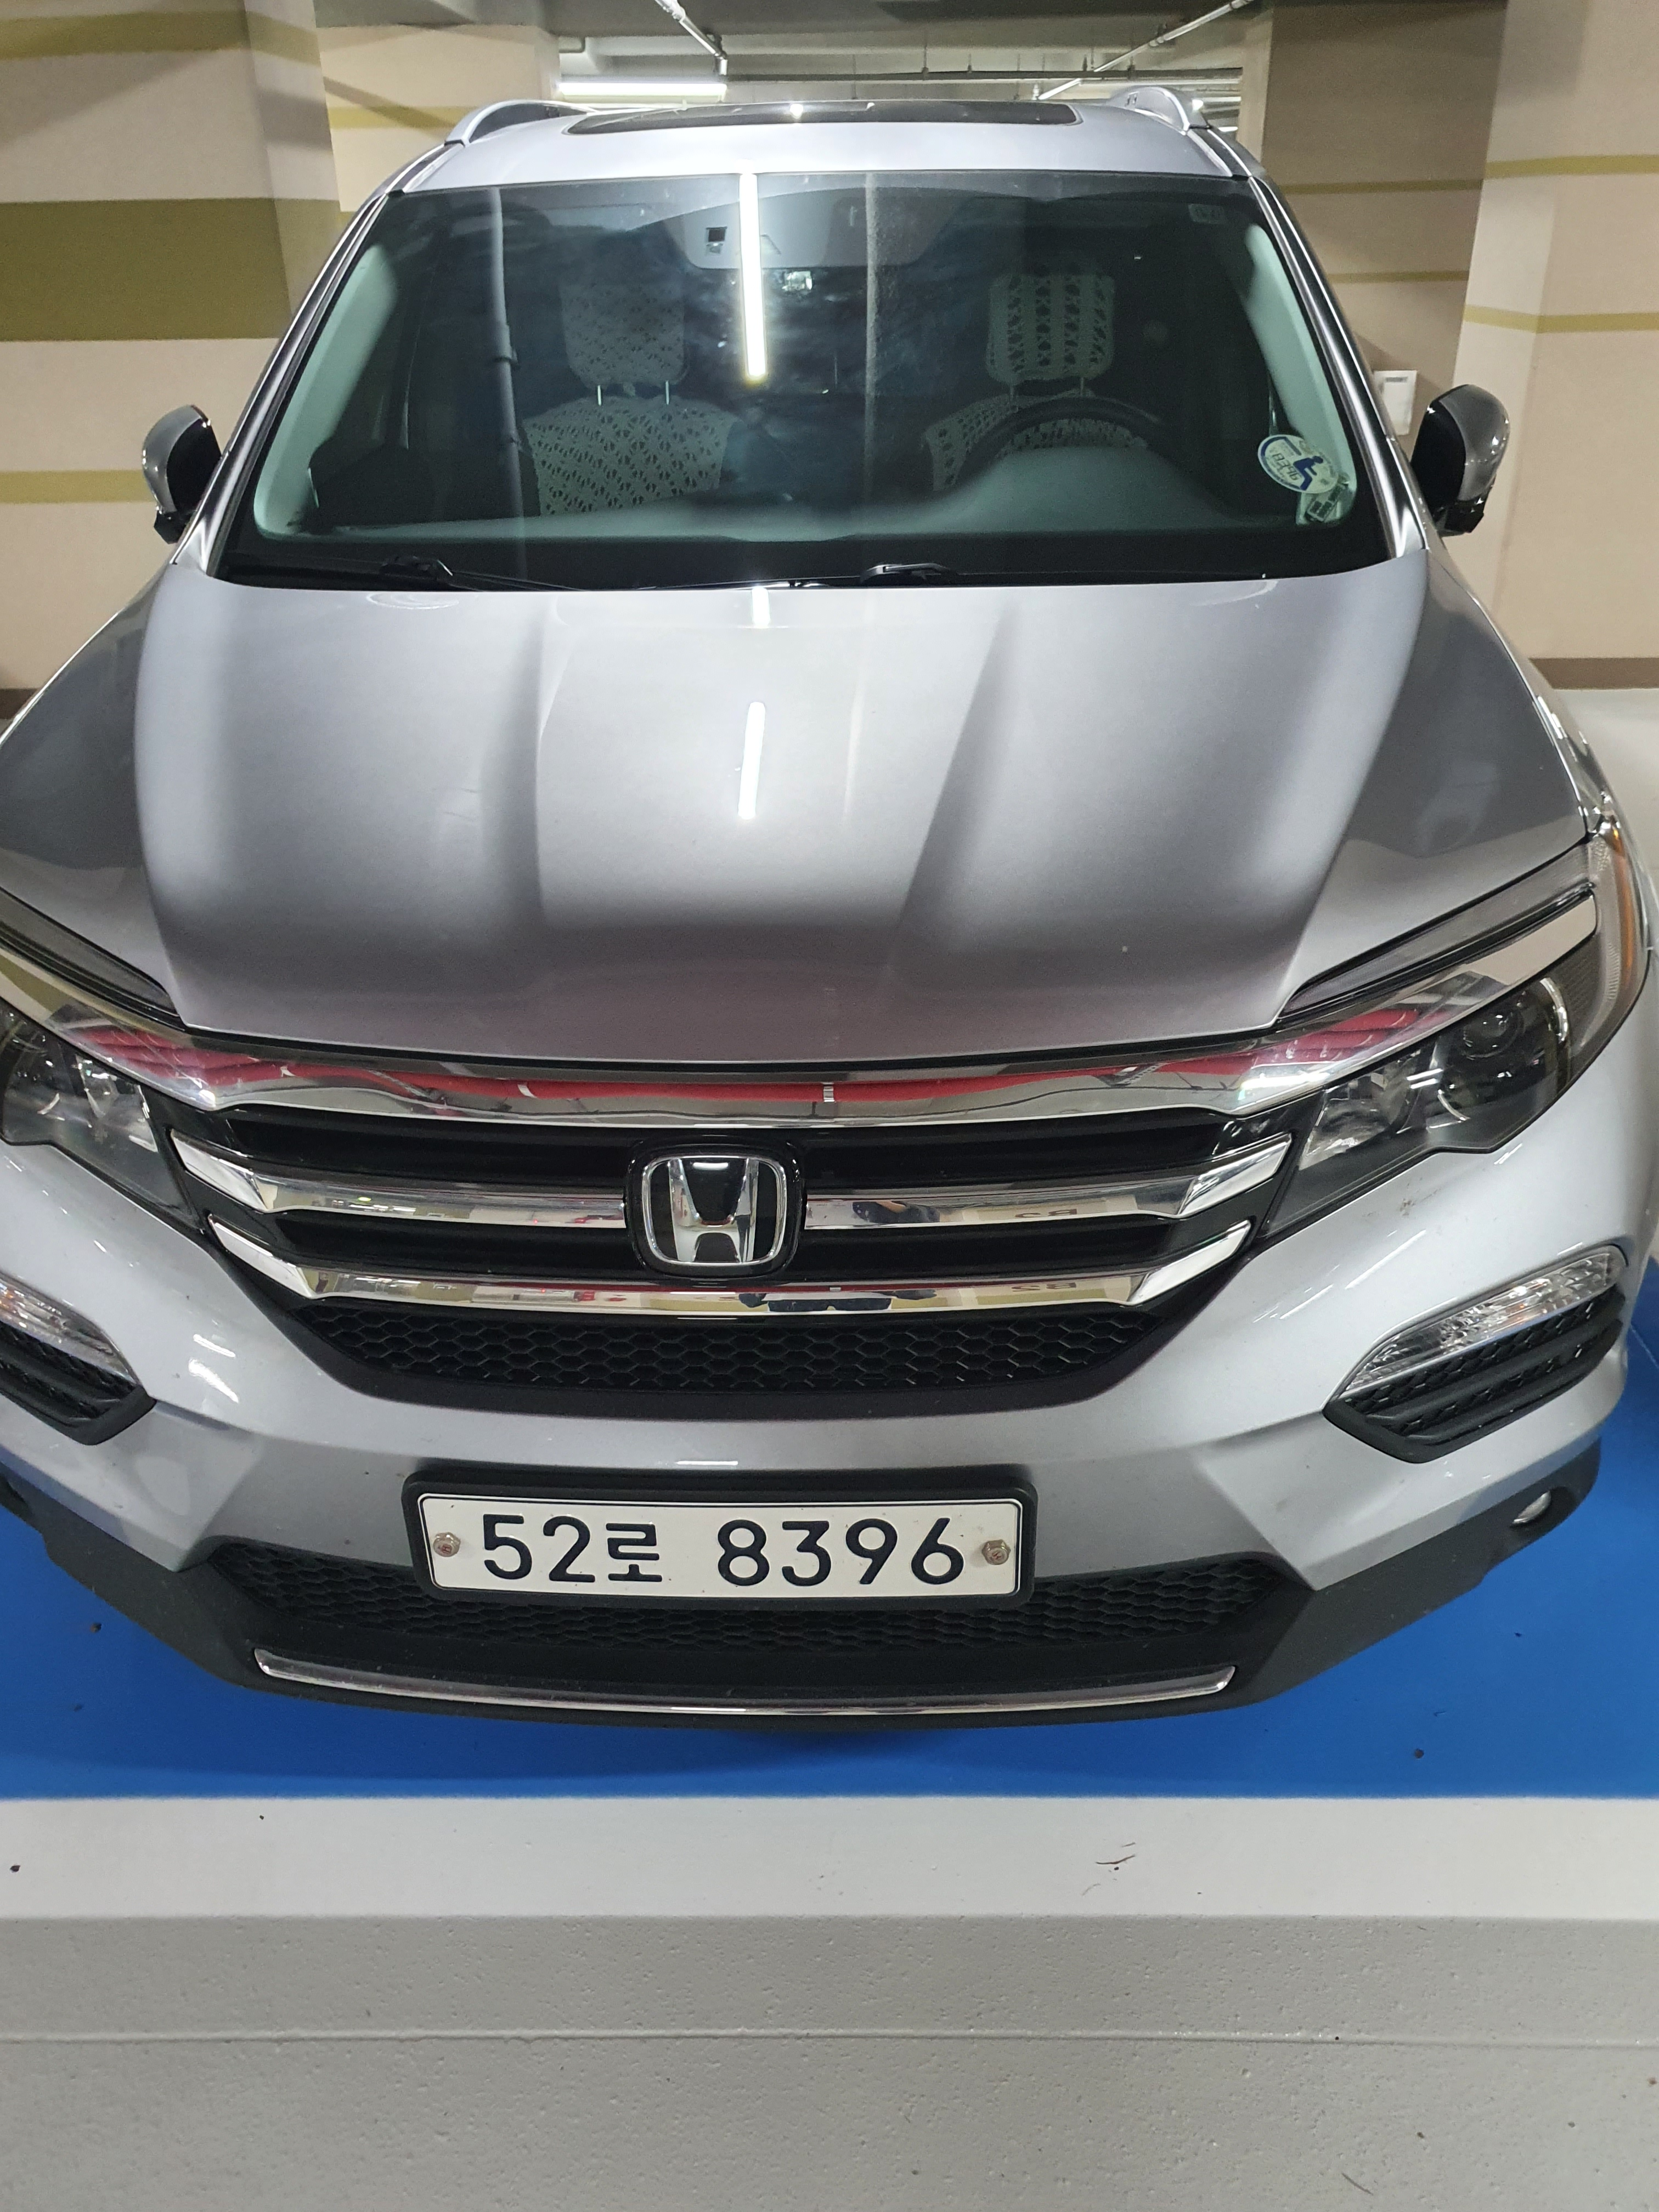disabled_parking: (1249, 427, 1340, 498)
